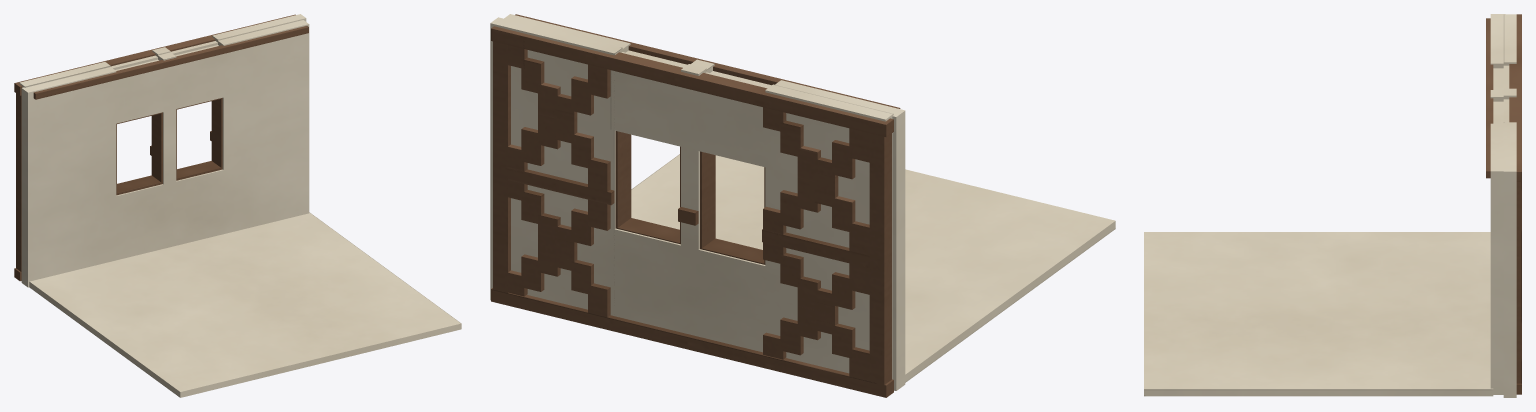
Rendered from med_window_b.glb.
3 views of the same model, side by side, from view 1: azimuth 30°, elevation 25°; view 2: azimuth 150°, elevation 25°; view 3: azimuth 270°, elevation 25° (orthographic). The views are drawn at different scales.
Visible parts, largest first — view 1: med_window_b; view 2: med_window_b; view 3: med_window_b.
Part boxes in pixels (x1,y1,x2,y2): med_window_b: [14, 14, 461, 397]; med_window_b: [490, 14, 1115, 397]; med_window_b: [1144, 14, 1521, 397].
Size of the model in its own units: 4.04 by 2.68 by 4.06.
1 material, 1 textured.
